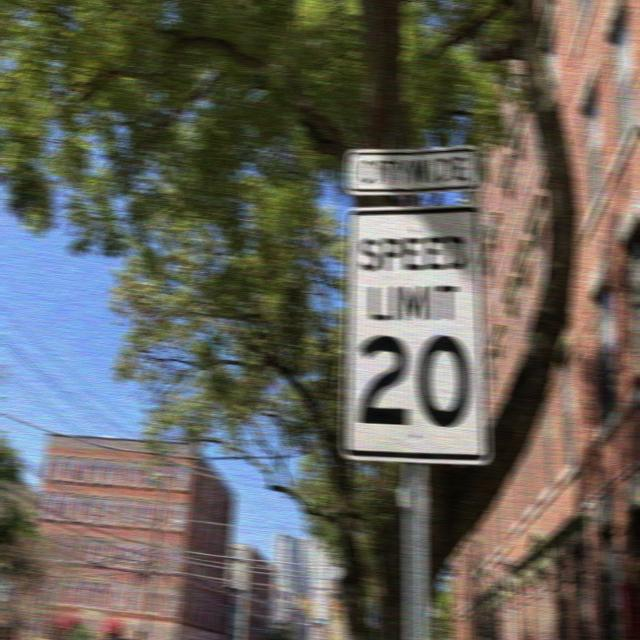speedLimit20: (349, 210, 480, 457)
